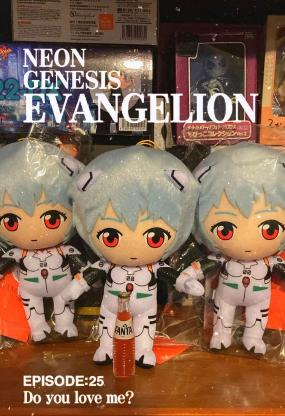rei-plush: (67, 145, 202, 371), (184, 143, 284, 361), (0, 137, 84, 348)
